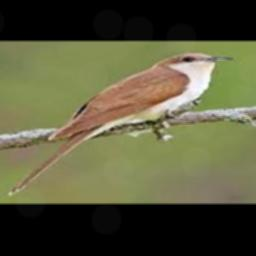Cuckoo: (7, 52, 235, 196)
